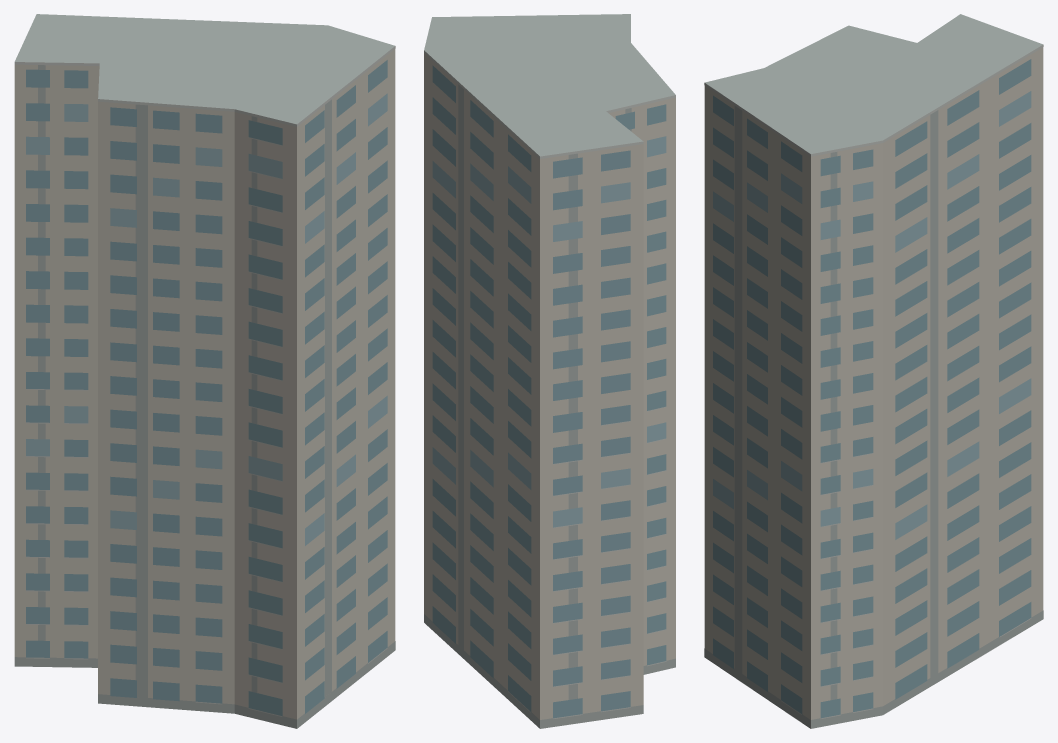
File: residential-9decc418-732e-4bd5-a72d-79f924929b71.glb
3 renders of one model, left to right at view 1: azimuth 30°, elevation 25°; view 2: azimuth 150°, elevation 25°; view 3: azimuth 270°, elevation 25°, orthographic. The views are drawn at different scales.
Visible parts, largest first — view 1: residential-9decc418-732e-4bd5-a72d-79f924929b71.tmp; view 2: residential-9decc418-732e-4bd5-a72d-79f924929b71.tmp; view 3: residential-9decc418-732e-4bd5-a72d-79f924929b71.tmp.
Boxes of the visible parts, left/top/right/bottom form: residential-9decc418-732e-4bd5-a72d-79f924929b71.tmp: left=14, top=14, right=395, bottom=728; residential-9decc418-732e-4bd5-a72d-79f924929b71.tmp: left=424, top=14, right=675, bottom=728; residential-9decc418-732e-4bd5-a72d-79f924929b71.tmp: left=704, top=14, right=1043, bottom=728.
Bounding box in the file's own units: 28.73 × 54.9 × 29.35.
